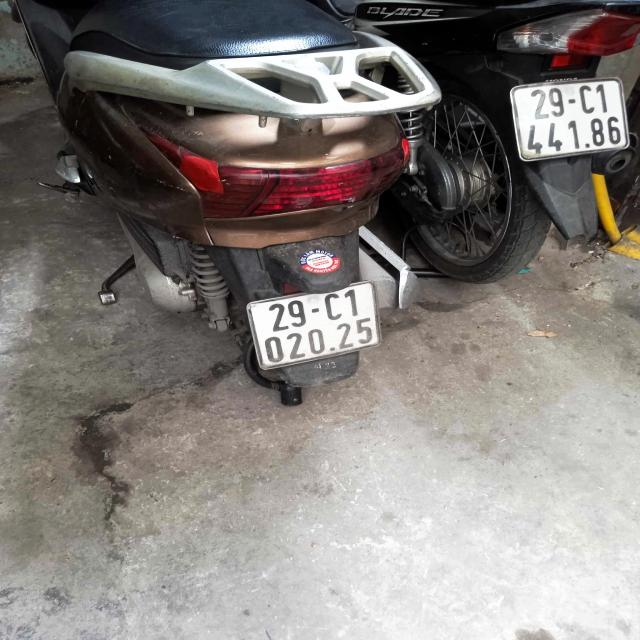license_plate: (241, 280, 387, 372), (508, 77, 632, 165)
